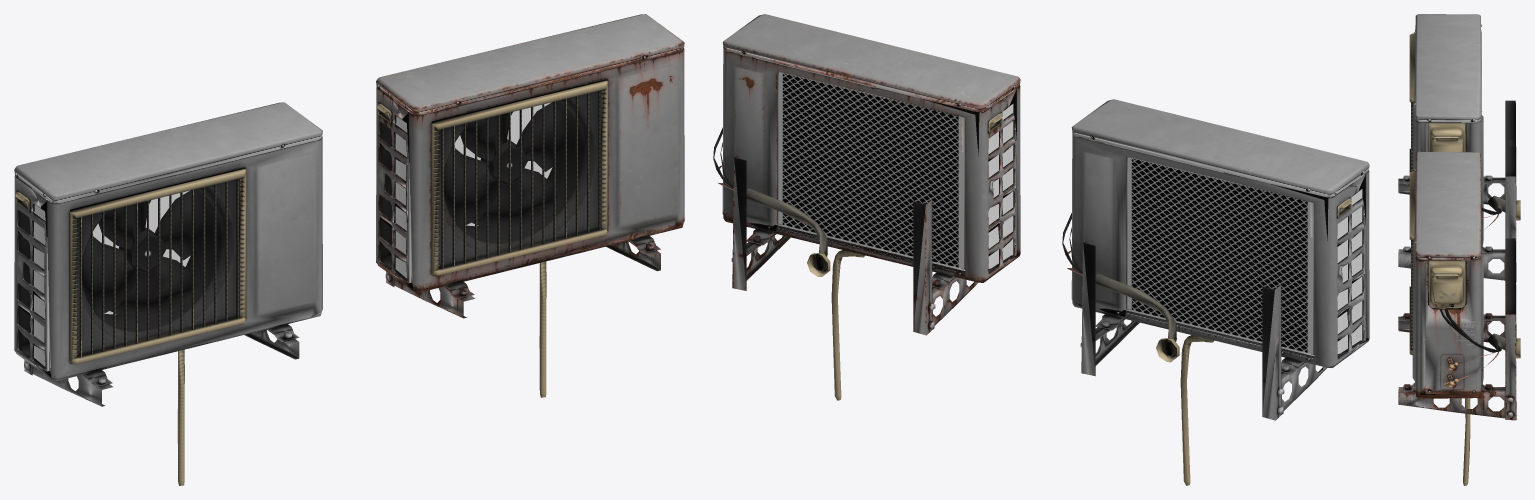
The model's file is exterior_aircon_unit.glb.
3 views of the same model, side by side, from view 1: azimuth 30°, elevation 25°; view 2: azimuth 150°, elevation 25°; view 3: azimuth 270°, elevation 25° (orthographic). The views are drawn at different scales.
Visible parts, largest first — view 1: exterior_aircon_unit_rusted, exterior_aircon_unit; view 2: exterior_aircon_unit_rusted, exterior_aircon_unit; view 3: exterior_aircon_unit_rusted, exterior_aircon_unit.
Part boxes in pixels (box(x1,y1,x2,y2)): exterior_aircon_unit_rusted: box(376, 14, 684, 397); exterior_aircon_unit: box(14, 102, 322, 485); exterior_aircon_unit_rusted: box(713, 14, 1020, 400); exterior_aircon_unit: box(1062, 99, 1369, 485); exterior_aircon_unit_rusted: box(1398, 151, 1520, 485); exterior_aircon_unit: box(1398, 14, 1520, 282).
Bounding box in the file's own units: 1.8 × 0.9279 × 0.3742.
Materials: 4 (4 with a texture image).
